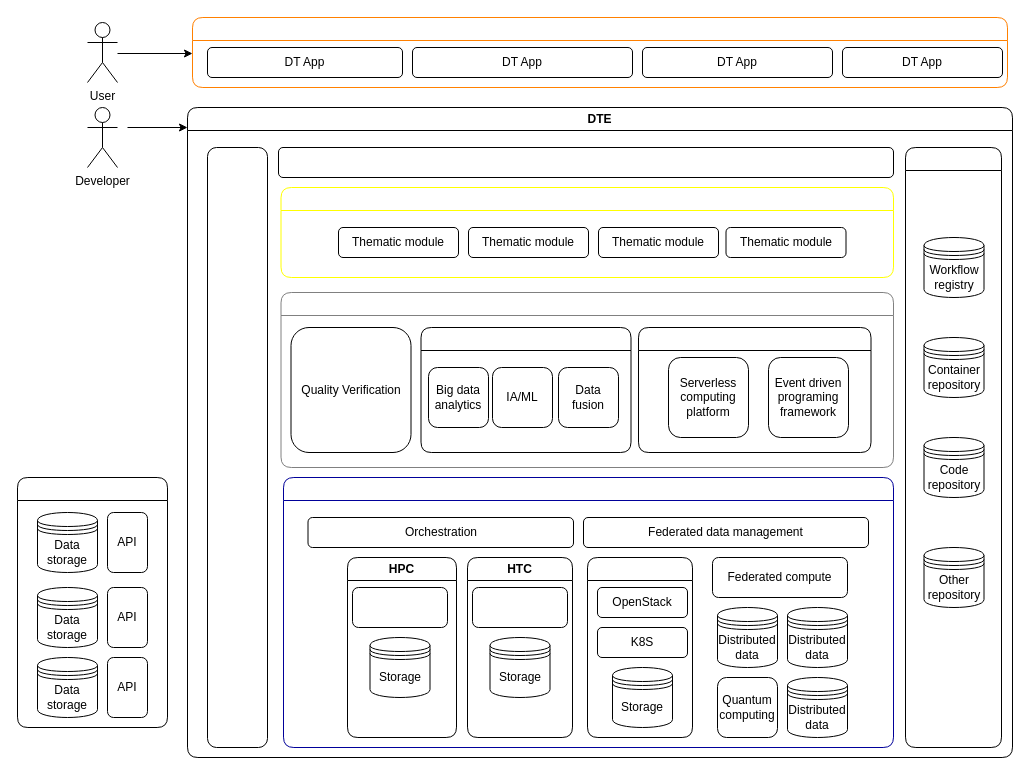
Some shapes in this 1030 by 775 pixel diagram are drawn without their labels. The box of each missing label's shape, as (x1, y1, x2, y2) in pixels:
AAI: (206, 146, 268, 748)
Cloud: (586, 556, 692, 738)
DT Application Interface: (192, 16, 1008, 88)
DTE API: (278, 146, 894, 178)
DTE Compatible systems: (16, 476, 168, 728)
DTE Core Capabilities: (280, 292, 894, 468)
DTE Infrastructure: (282, 476, 894, 748)
DTE Repository: (904, 146, 1002, 748)
DTE Thematic capabilities: (280, 186, 894, 278)
HPC Cluster: (352, 586, 448, 628)
HTC Cluster: (472, 586, 568, 628)
Real time adquisition and processing: (638, 326, 871, 452)
Workflow composition: (420, 326, 631, 452)
